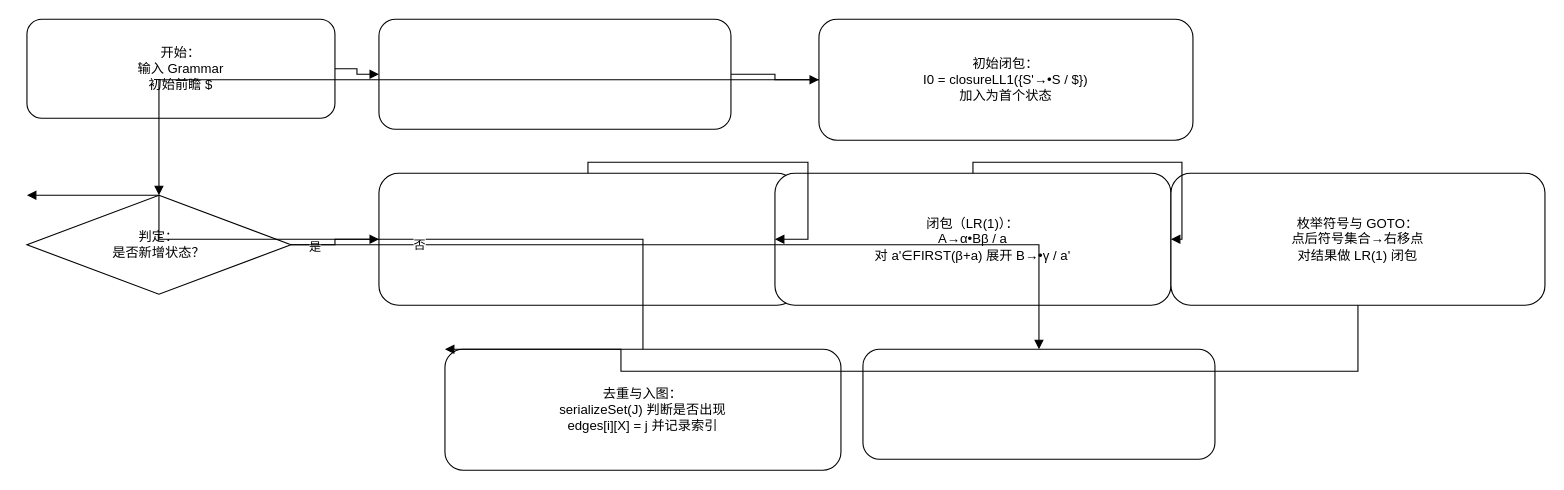
Some shapes in this 1564 by 490 pixel diagram are drawn without their labels. Here are the shapes that lost their labels. From the top down, the centre of each, then its label:
pixel 554 73: 增广： S' → S 设置增广开始符
pixel 587 238: FIRST(β+a)： 调用 firstSeqLL1(g, β, a) β 全可空 → 带入 a；否则 FIRST(β)\{#}
pixel 1038 403: 终止： 无新增→结束 输出项集与边摘要
